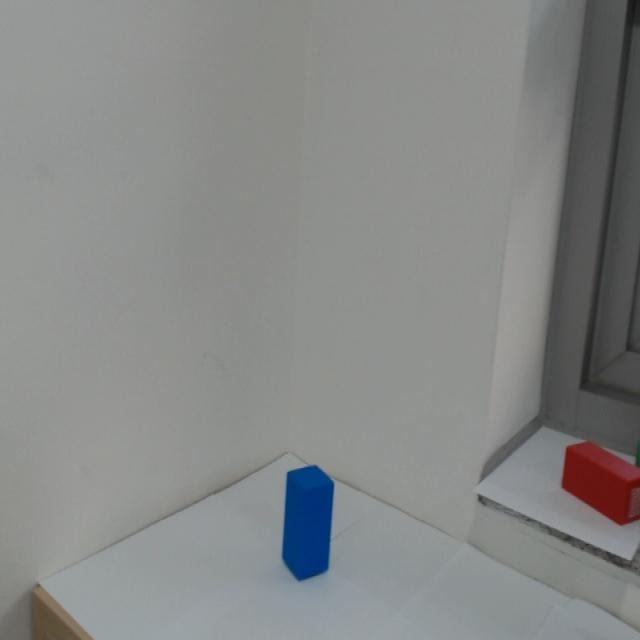cube: (276, 429, 340, 598)
